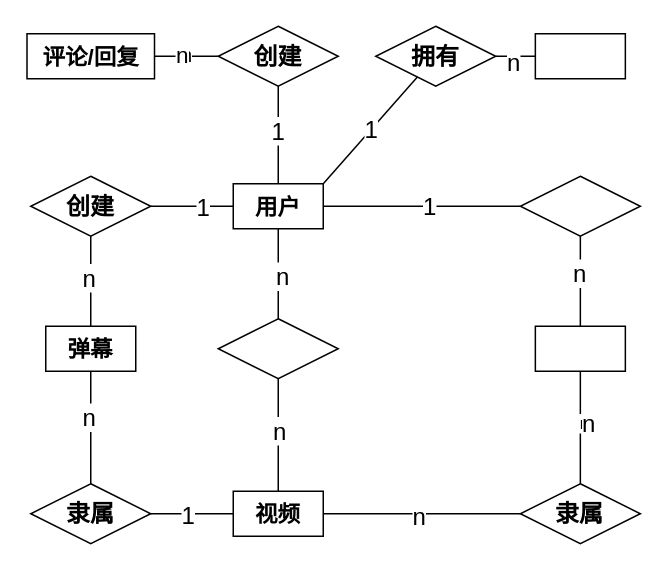
This 666x570 diagram has some shape labels left out. Each missing label, with the centre of its shape:
"收藏夹" belongs at point (579, 348).
"标签" belongs at point (579, 55).
"管理" belongs at point (579, 205).
"观看" belongs at point (277, 348).
